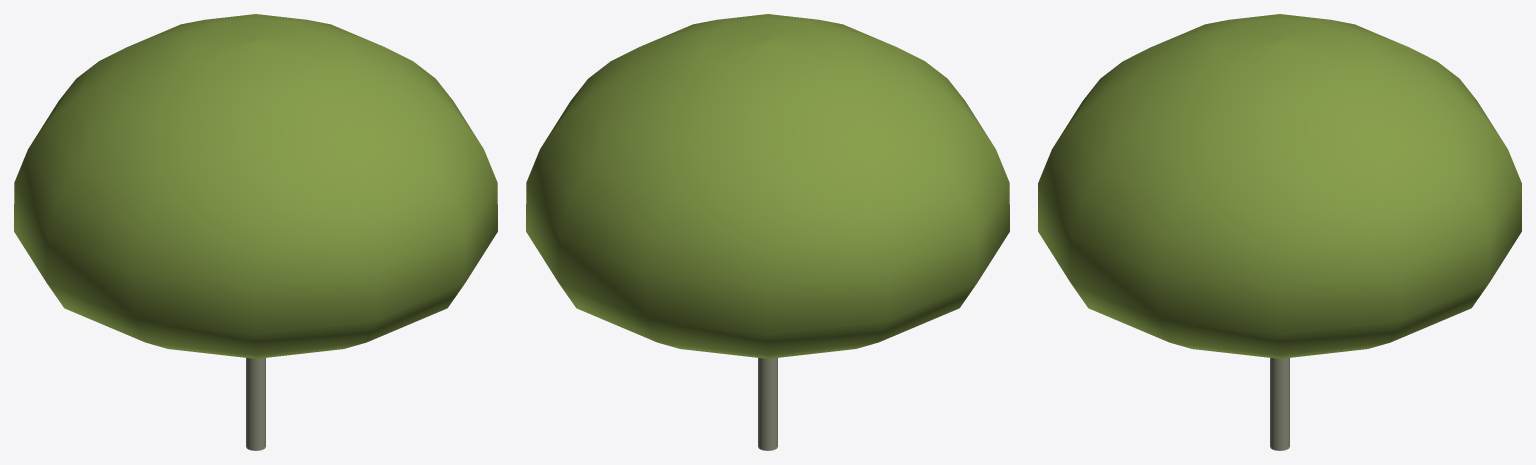
File: Palo_Verde_Analytical_0.obj
3 views of the same model, side by side, from view 1: azimuth 30°, elevation 25°; view 2: azimuth 150°, elevation 25°; view 3: azimuth 270°, elevation 25° (orthographic).
Visible parts, largest first — view 1: AnalyticalCrown, AnalyticalTrunk; view 2: AnalyticalCrown, AnalyticalTrunk; view 3: AnalyticalCrown, AnalyticalTrunk.
Boxes of the visible parts, left/top/right/bottom form: AnalyticalCrown: left=14, top=14, right=497, bottom=358; AnalyticalTrunk: left=246, top=358, right=265, bottom=450; AnalyticalCrown: left=526, top=14, right=1009, bottom=358; AnalyticalTrunk: left=758, top=358, right=777, bottom=450; AnalyticalCrown: left=1038, top=14, right=1521, bottom=358; AnalyticalTrunk: left=1270, top=358, right=1289, bottom=450.
Size of the model in its own units: 4.32 by 4 by 4.32.
